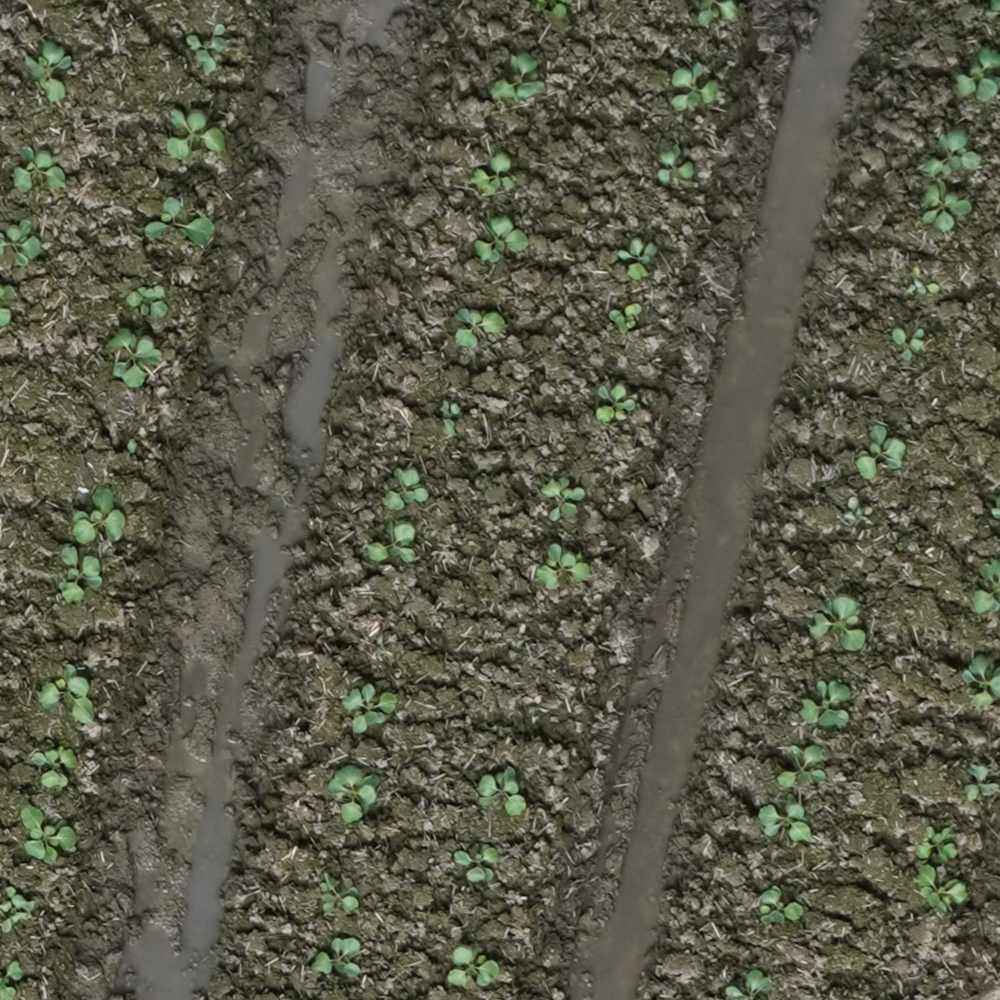Cabbage: (38, 663, 95, 724), (145, 196, 215, 245), (21, 805, 76, 865), (810, 596, 866, 653), (109, 328, 162, 388), (72, 487, 126, 545), (329, 766, 381, 824), (166, 109, 225, 159), (26, 42, 72, 104), (925, 128, 982, 178), (343, 683, 397, 734), (922, 179, 973, 232), (492, 51, 546, 101), (536, 542, 591, 591), (11, 144, 66, 193), (857, 427, 906, 479), (759, 794, 811, 843), (799, 679, 852, 727), (955, 47, 1000, 103), (58, 546, 102, 603), (918, 863, 967, 914), (476, 215, 528, 263), (446, 943, 500, 988), (671, 62, 719, 112), (479, 766, 526, 815), (187, 23, 228, 76), (367, 519, 416, 563), (455, 308, 506, 350), (32, 746, 78, 791), (382, 467, 429, 511), (962, 653, 1000, 707), (778, 745, 825, 788), (311, 937, 360, 978), (471, 153, 515, 197), (542, 477, 585, 522), (0, 220, 40, 267), (760, 885, 804, 927), (453, 844, 500, 882), (618, 238, 657, 281), (320, 872, 359, 915), (1, 885, 34, 933), (973, 558, 1000, 615), (918, 825, 958, 862), (126, 286, 168, 320), (726, 969, 772, 1000), (657, 145, 695, 182), (596, 386, 635, 422), (965, 764, 1000, 801), (698, 0, 738, 28), (893, 328, 925, 361), (905, 266, 940, 296), (609, 302, 640, 334), (0, 960, 22, 1000), (441, 399, 461, 438), (536, 0, 574, 18), (0, 286, 16, 327), (986, 0, 1000, 17), (128, 438, 137, 454)
